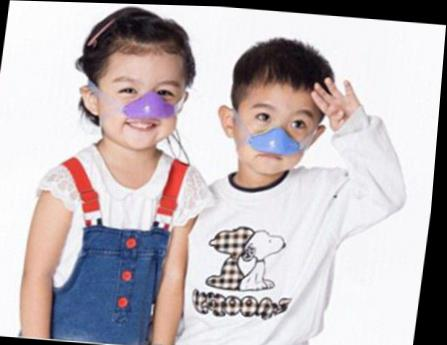WRONG: (242, 96, 324, 175), (107, 73, 188, 150)
